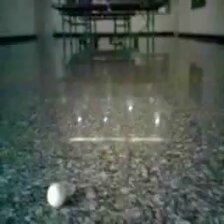w: (46, 182, 66, 209)
